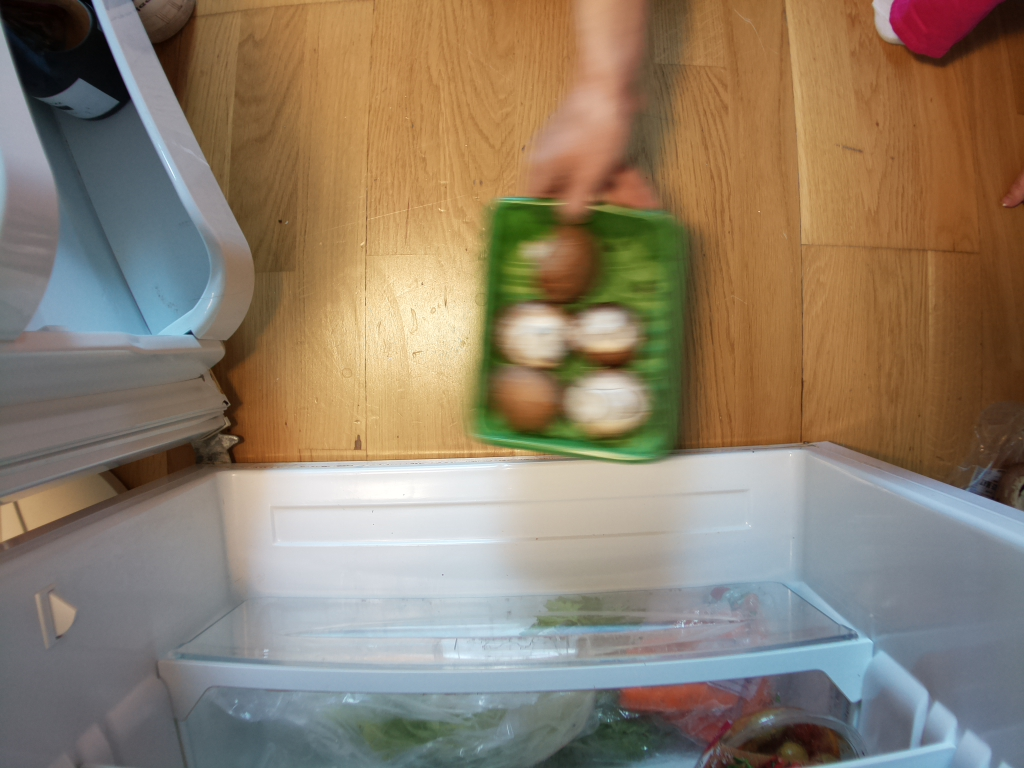mushrooms: (469, 195, 701, 467)
